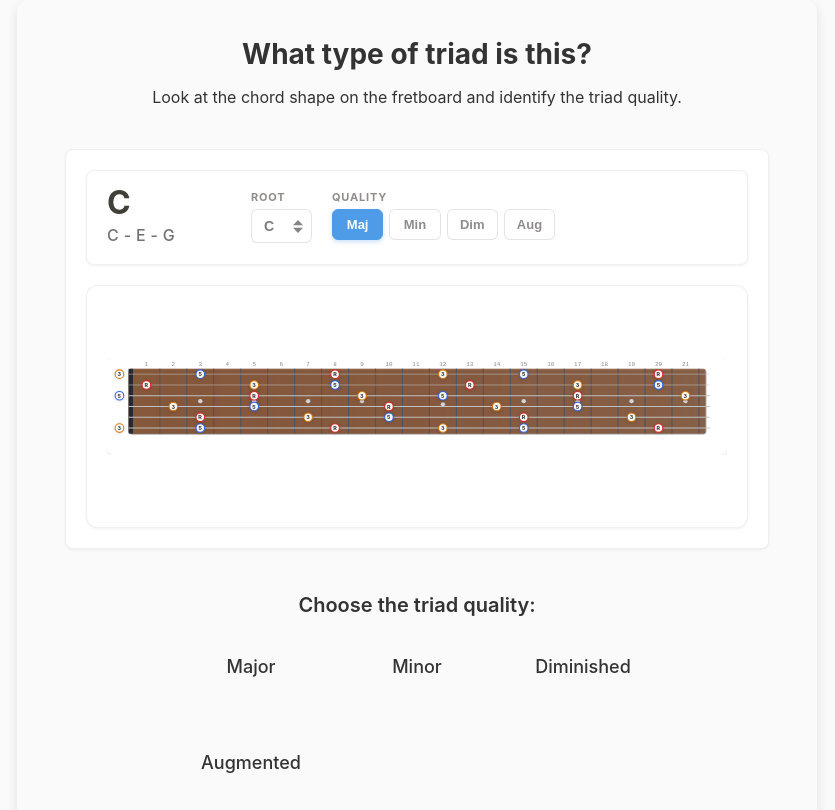
Test case: RecognitionMode Component › User Interactions › shows correct feedback for right answer
Click the radio button showing "major". click: (307, 665)
box: [226,654,387,677]
(page scrolled)
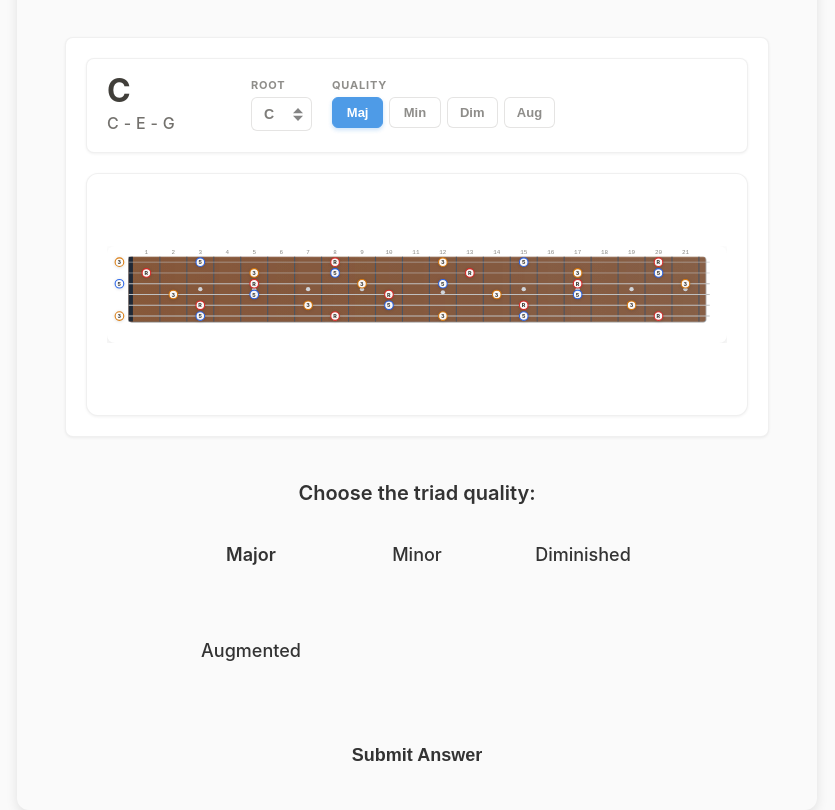
Click the button "Submit Answer". click: (417, 755)
box: [320,733,514,778]
(page scrolled)
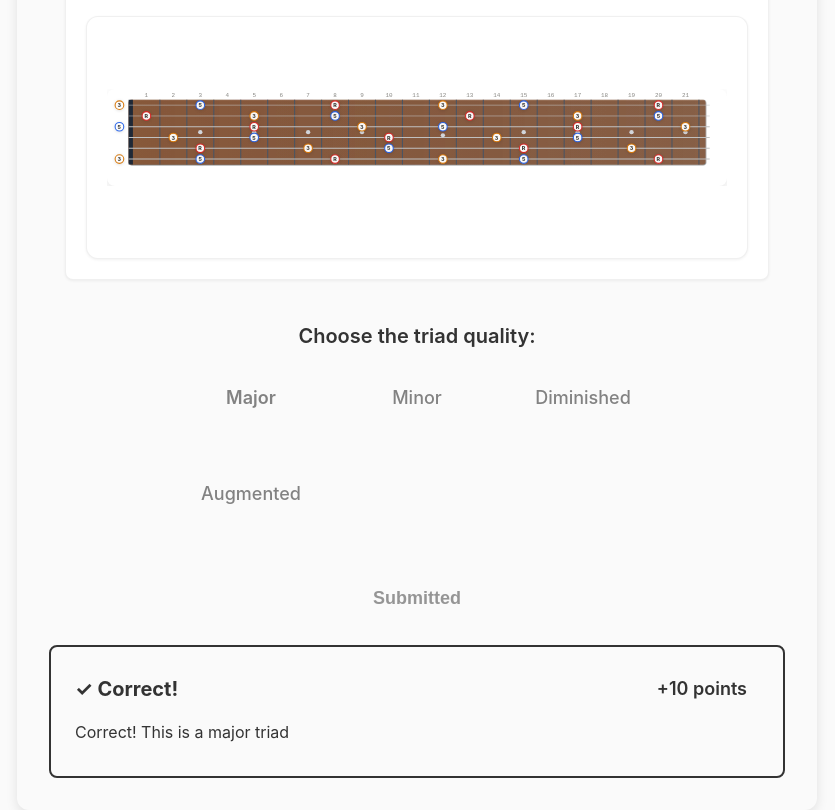
Check: the message "✓ Correct! +10 points Correct! This is a major triad" is shown, box [49,645,785,778]
Check: the text "✓ Correct!" is shown, box [75,673,178,705]
Check: the text "Correct! This is a major triad" is shown, box [75,722,289,742]
